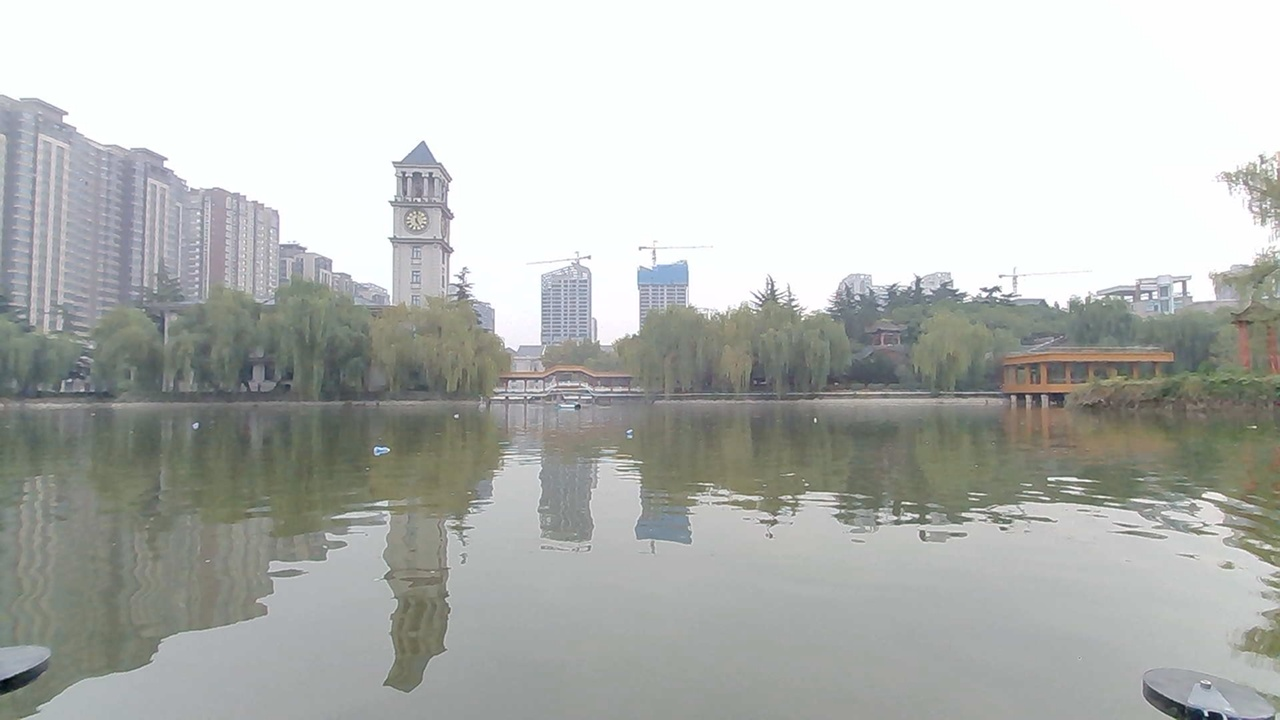bottle: (614, 415, 648, 442), (174, 414, 212, 438), (801, 409, 831, 435), (366, 444, 403, 465), (446, 405, 475, 427)
